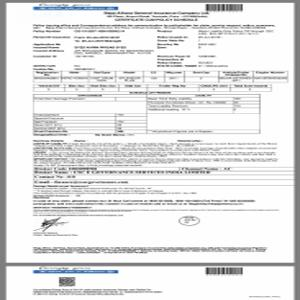table: (33, 94, 260, 138), (33, 69, 288, 82), (33, 82, 272, 91)
text: (29, 20, 275, 70), (31, 139, 284, 164), (31, 243, 269, 258), (103, 9, 210, 23)
